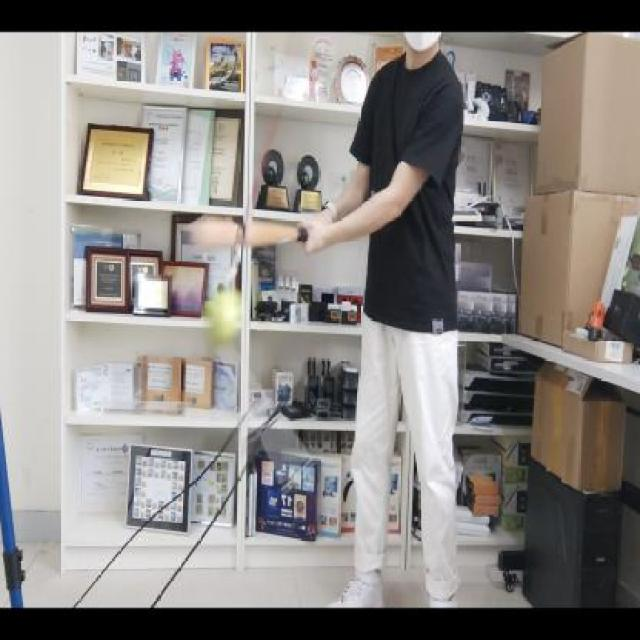baseball: (203, 288, 246, 344)
